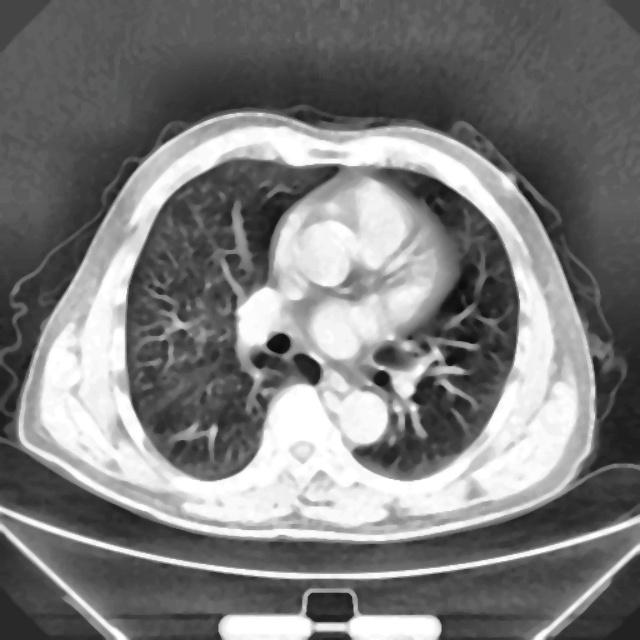covid: (14, 107, 605, 542)
